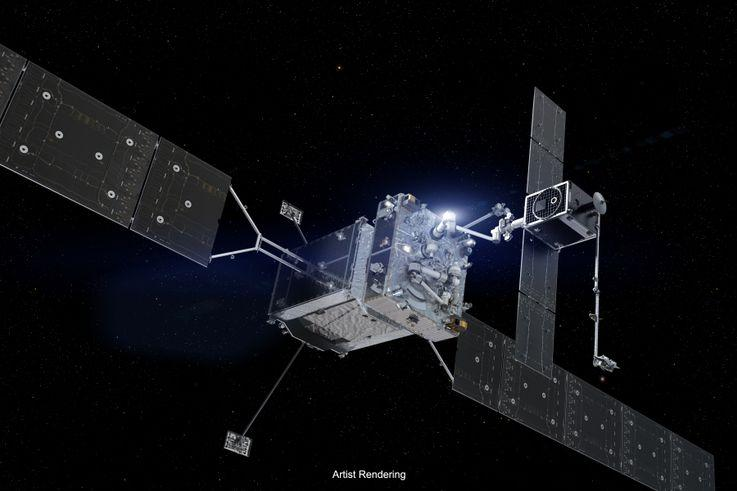antenna: (224, 339, 308, 459), (590, 211, 622, 375), (278, 196, 311, 247), (593, 189, 609, 215)
body: (267, 190, 473, 359), (522, 181, 602, 251)
solar: (0, 40, 234, 270), (452, 306, 717, 491), (513, 226, 561, 381), (524, 84, 567, 196), (524, 182, 568, 225)
